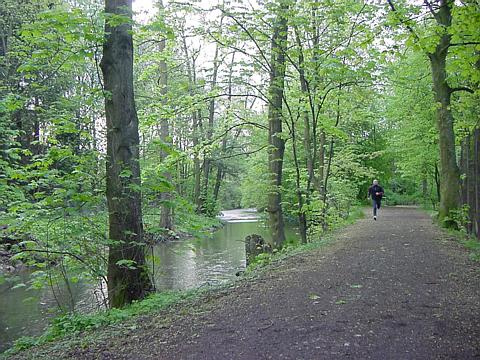person: (369, 181, 387, 219)
